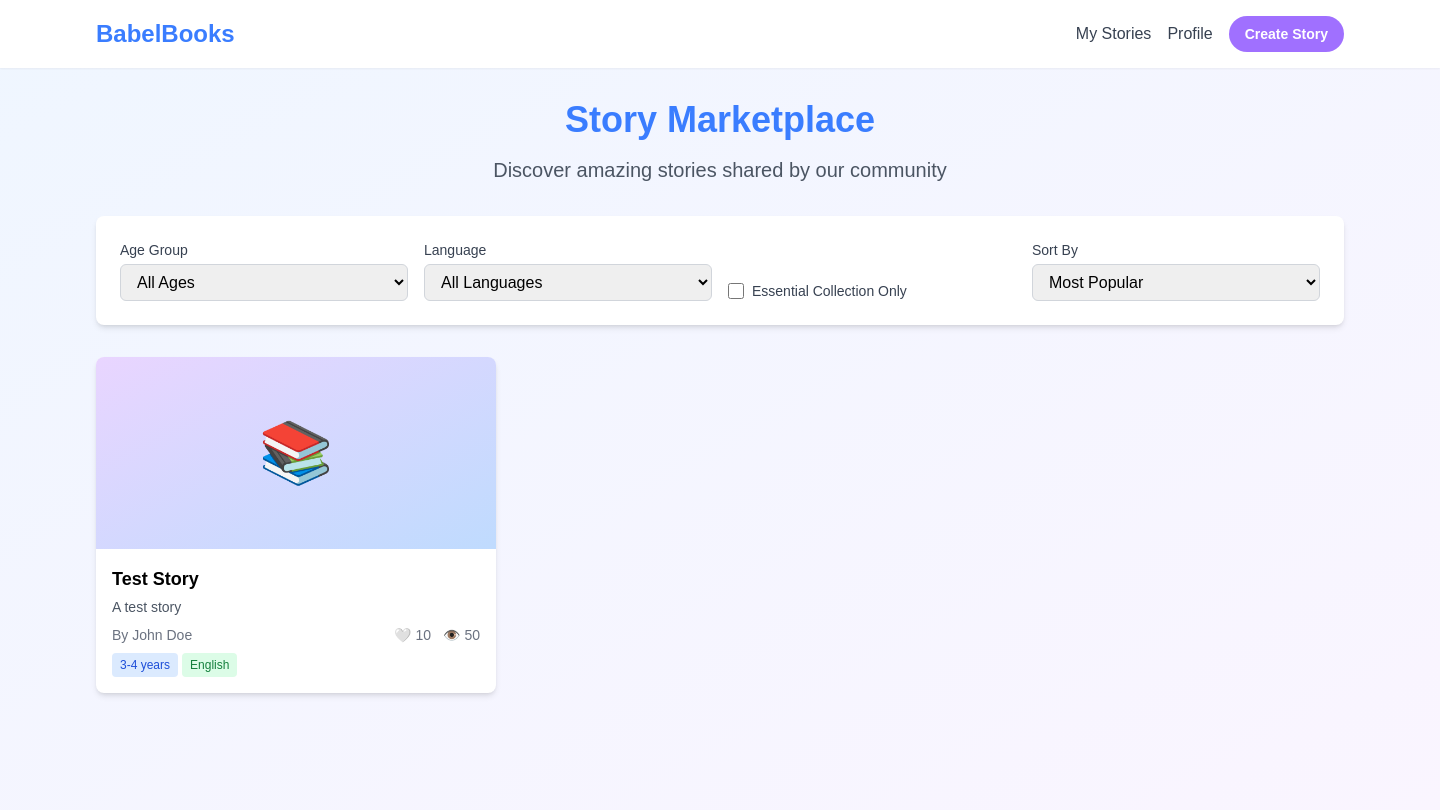
Test case: MarketplacePage › should handle like/unlike when authenticated
Expected: the heading "Test Story" is shown, x1=112 y1=569 x2=199 y2=589
// Click like button
Click the button "🤍 10": (412, 635) x1=394 y1=625 x2=431 y2=645
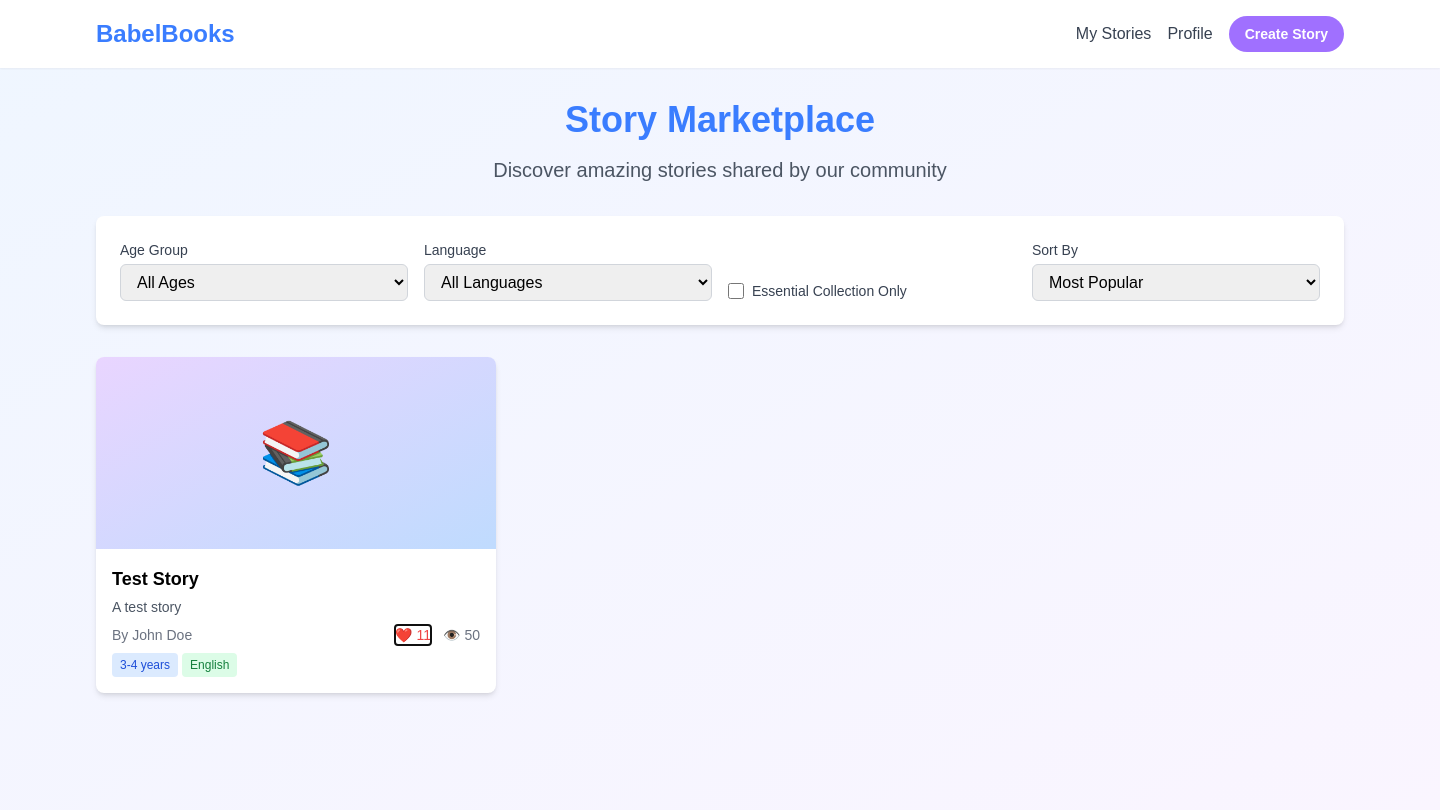
Now the text "11" is shown, box x1=416 y1=625 x2=431 y2=645
